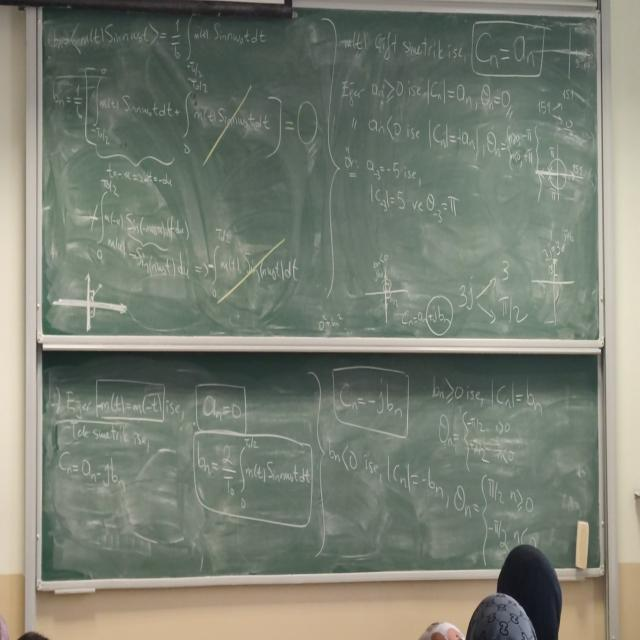image: (50, 266, 130, 332), (530, 226, 579, 326), (362, 243, 411, 331), (531, 133, 589, 204)
math: (49, 72, 326, 150), (368, 77, 536, 172), (84, 151, 195, 279), (49, 12, 270, 68), (195, 432, 314, 521), (323, 438, 446, 508), (450, 472, 538, 552), (204, 225, 300, 295), (432, 368, 548, 422), (435, 411, 519, 471), (54, 442, 132, 503), (368, 178, 465, 221), (93, 375, 164, 425), (336, 379, 404, 422), (532, 83, 580, 134), (198, 391, 242, 428)
text: (372, 30, 466, 73)
